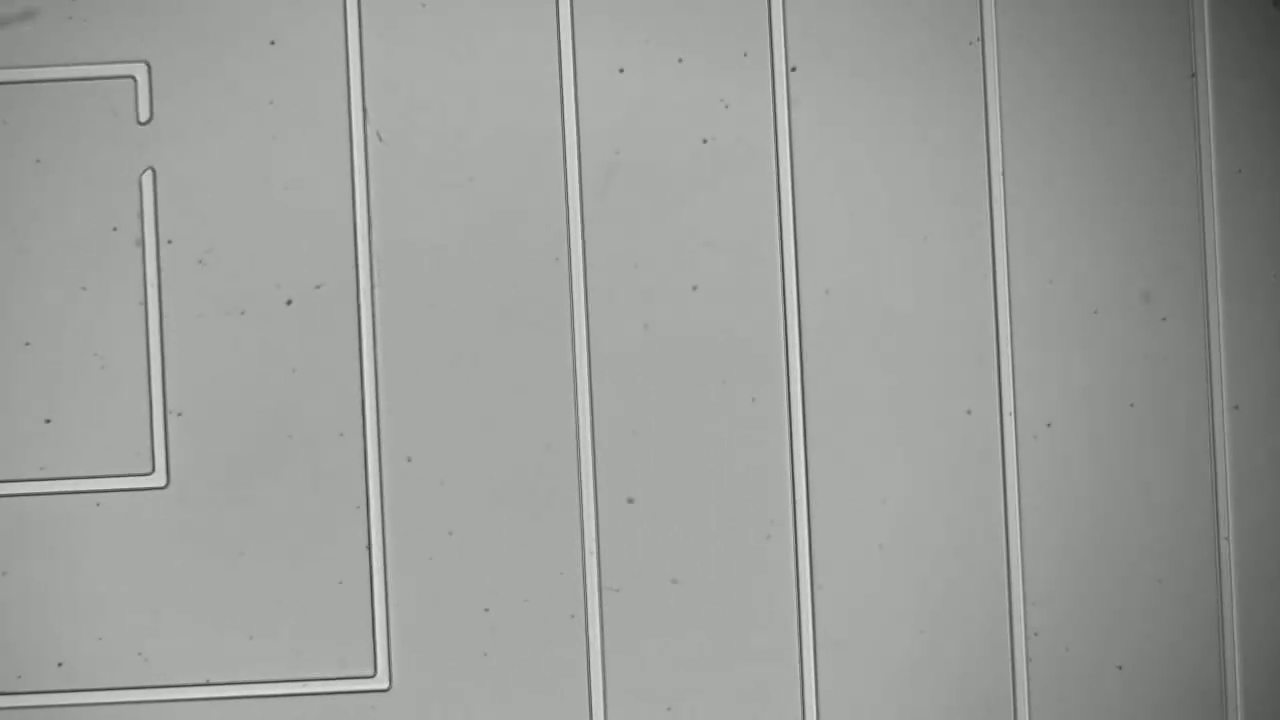open: (113, 87, 185, 209)
